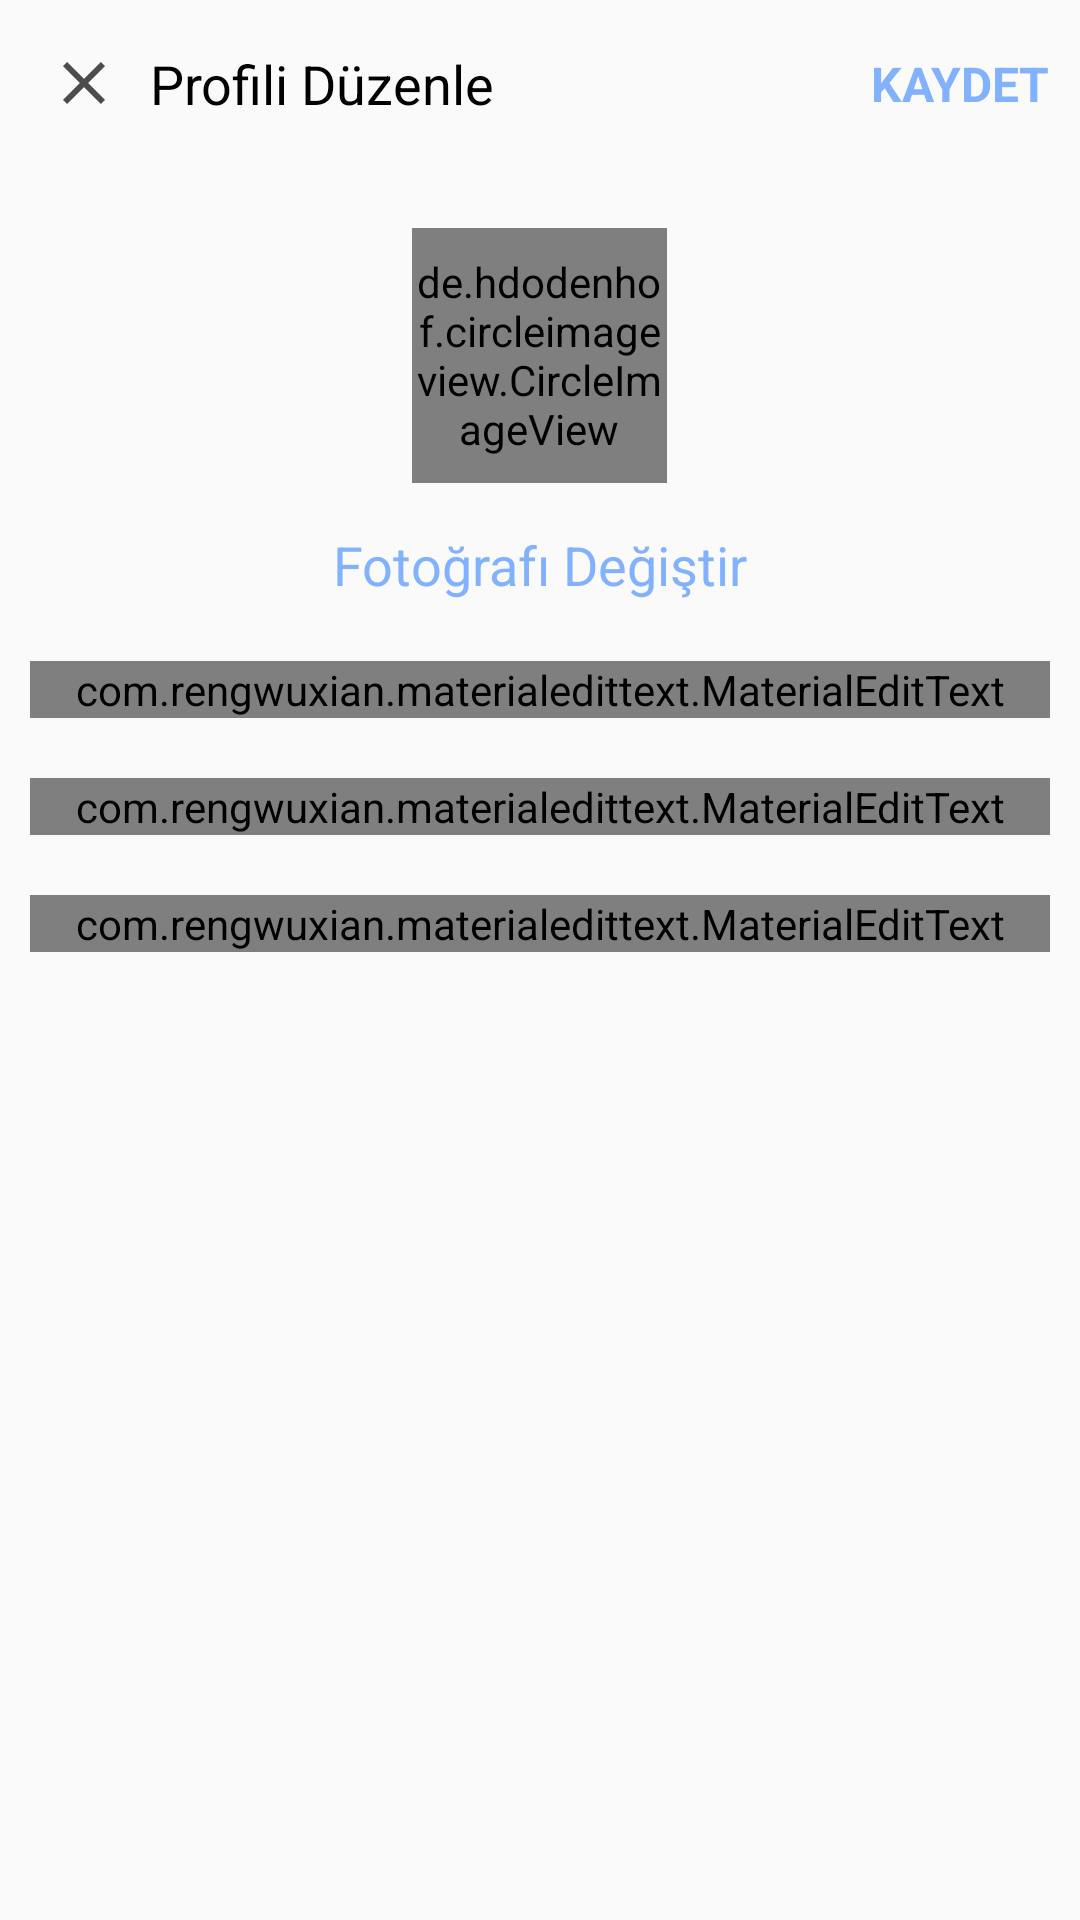

Icon click points for this 1080×1920 phone screenshot, format (x=x, y=y):
kapat: (x=84, y=83)
